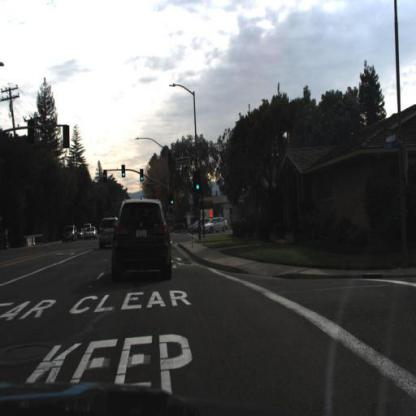car: (110, 196, 172, 282), (97, 216, 121, 252), (198, 214, 228, 235), (61, 224, 78, 244), (84, 224, 96, 240)
trafficLight-Green: (192, 171, 200, 195), (121, 165, 126, 178), (139, 168, 144, 181), (171, 192, 174, 206)
trafficLight-GreenLeft: (102, 168, 106, 184)
